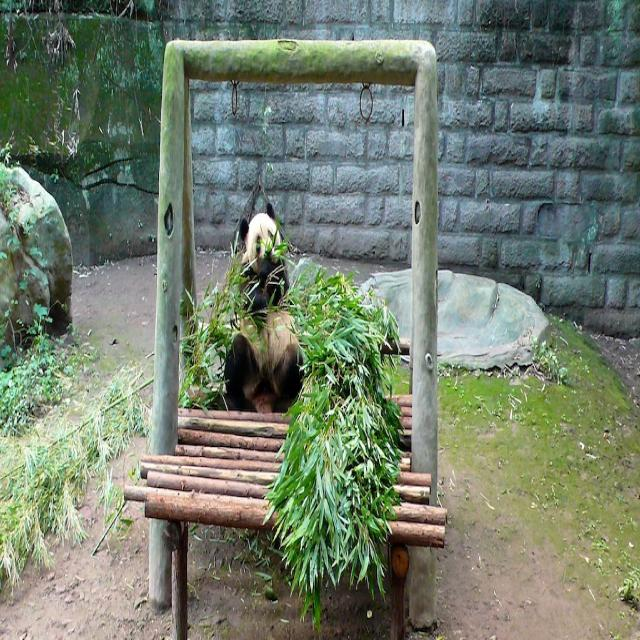panda: (195, 203, 308, 415)
